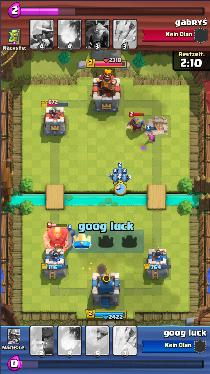ally_archer: (148, 133, 156, 143)
ally_knight: (65, 227, 75, 242)
ally_minion: (120, 172, 131, 182), (109, 173, 119, 183), (117, 166, 123, 177)
enemy_giant: (43, 226, 73, 250)
enemy_knight: (126, 117, 147, 133)
